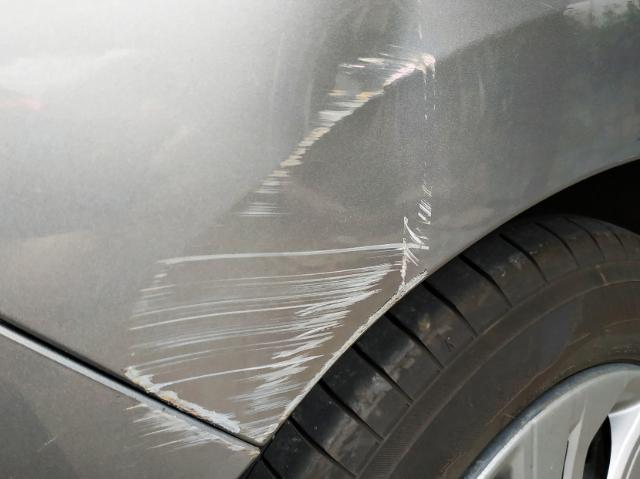Bumper: (87, 381, 262, 479)
Fender: (111, 7, 475, 444)
